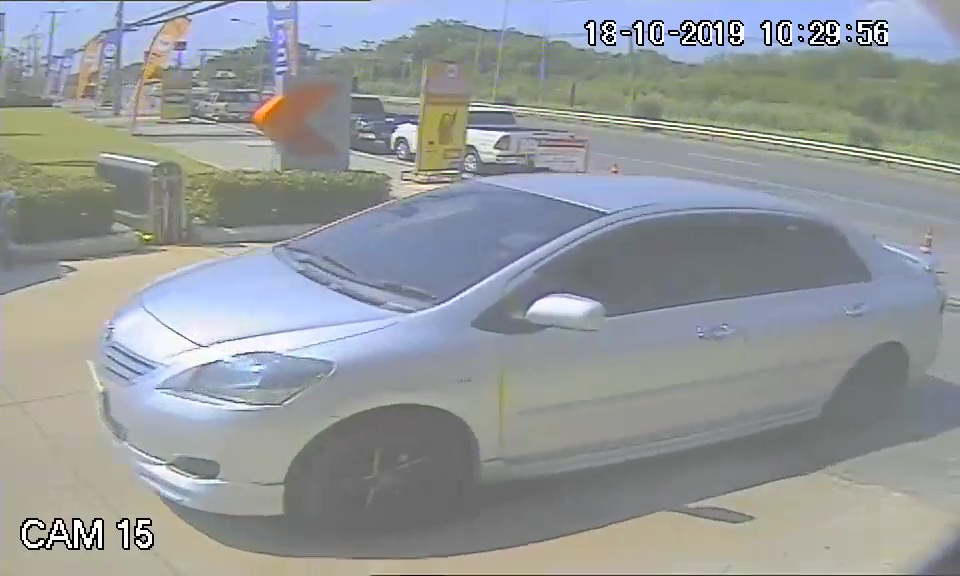sedan: (94, 166, 946, 517)
